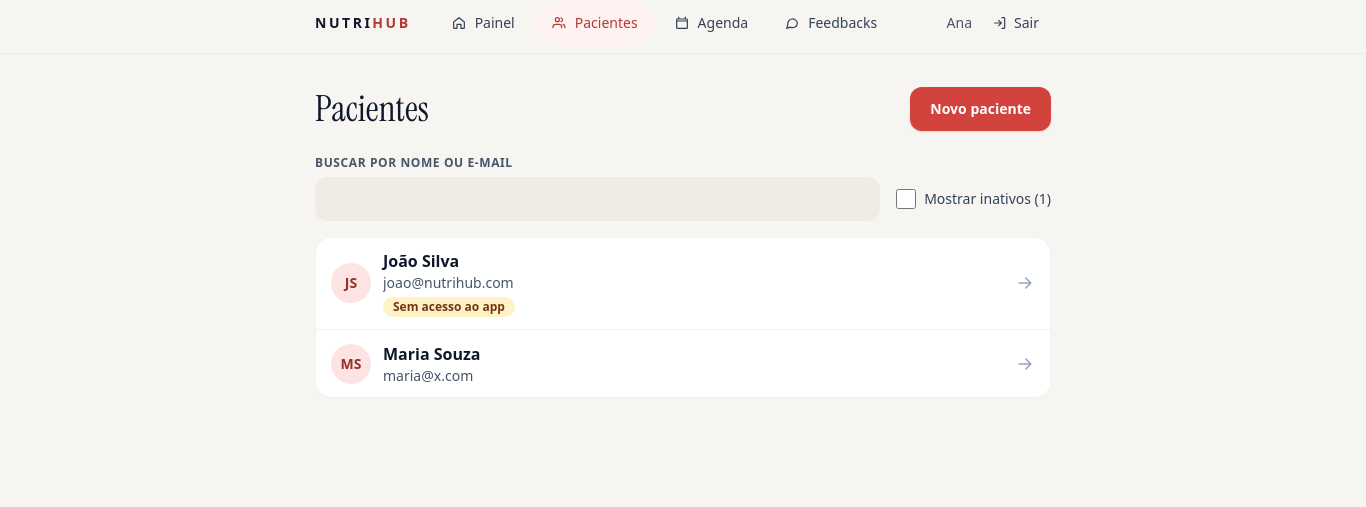
Test: ListaDePacientes (RF-03) › esconde inativos por padrão e mostra quem ainda não tem acesso ao app
Expected: the text "João Silva" is shown, [383,250,459,272]
Expected: the text "Maria Souza" is shown, [383,343,480,365]
Click the checkbox labelled "Mostrar inativos (1)".
click(906, 199)  # box [896,189,916,209]
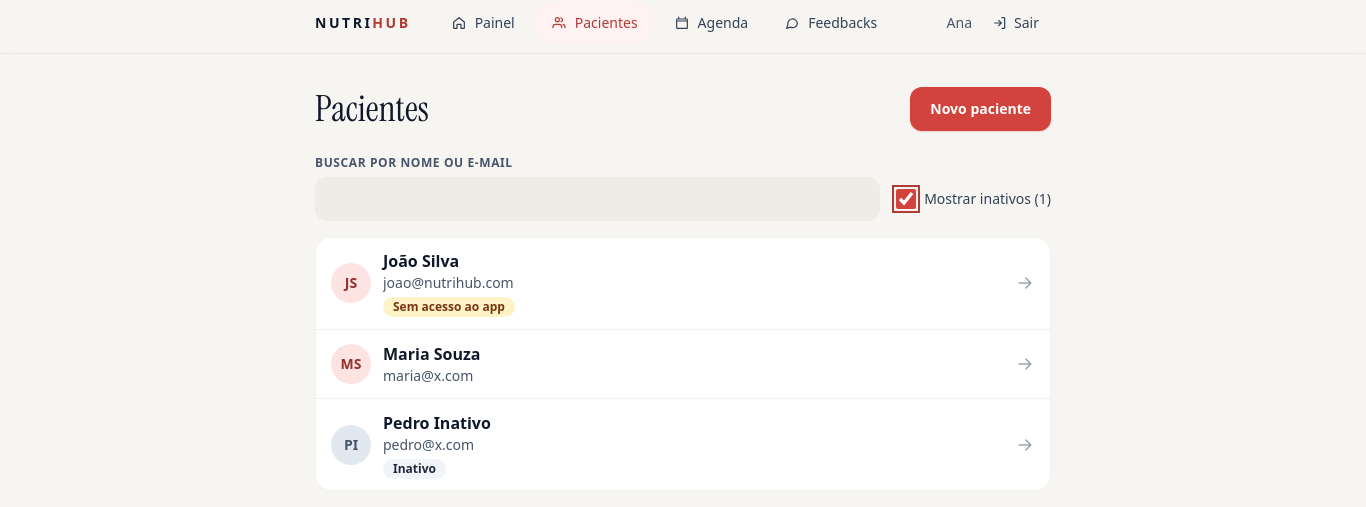
Now the text "Pedro Inativo" is shown, box [383,412,491,434]
